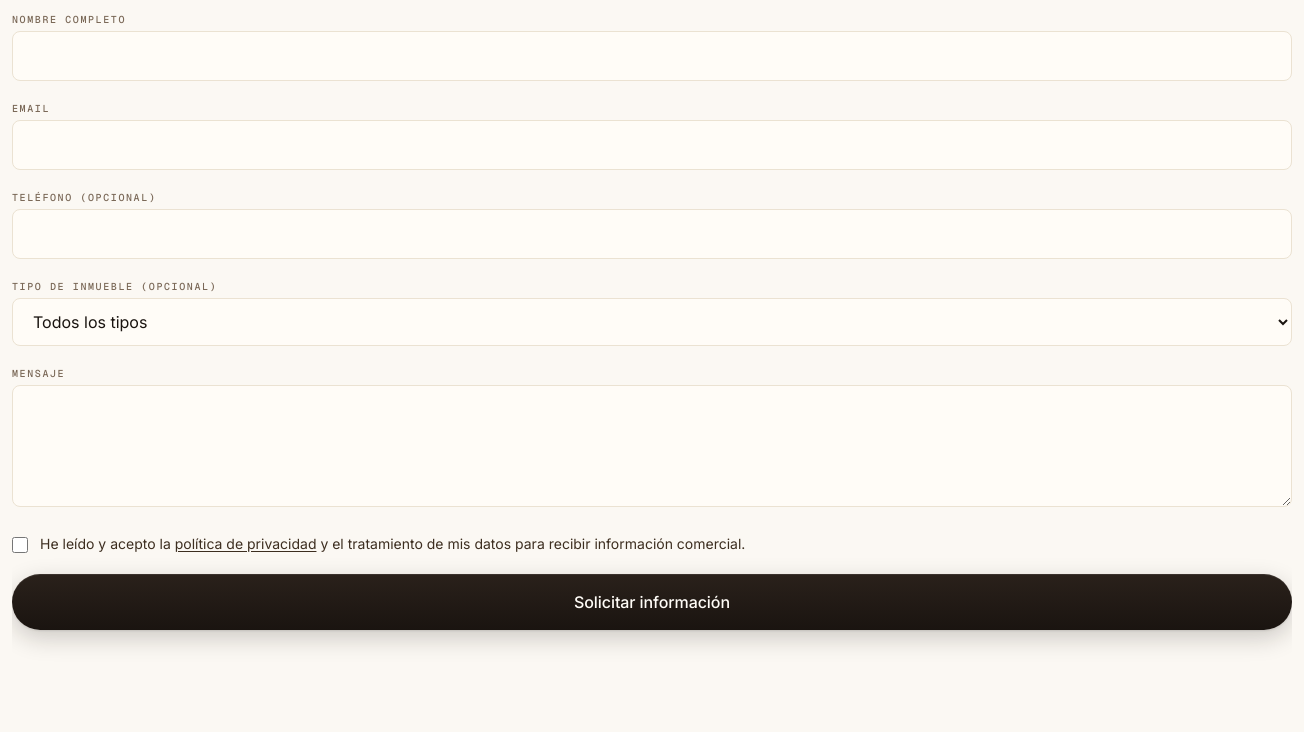
Test case: ContactForm › shows error when consent is not checked
Type "Juan Pérez" into the field labelled "Nombre completo" at (652, 56), box [12,31,1292,81]
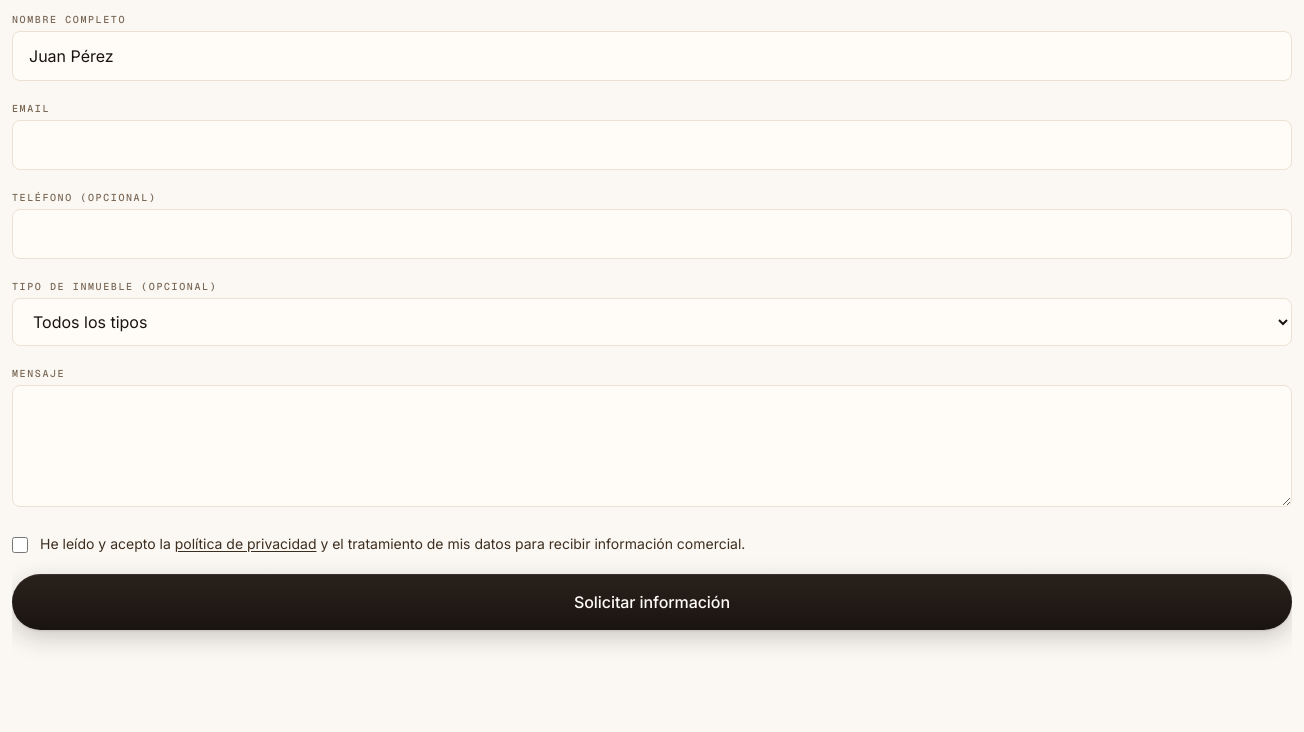
Type "juan@example.com" into the field labelled "Email" at (652, 145), box [12,120,1292,170]
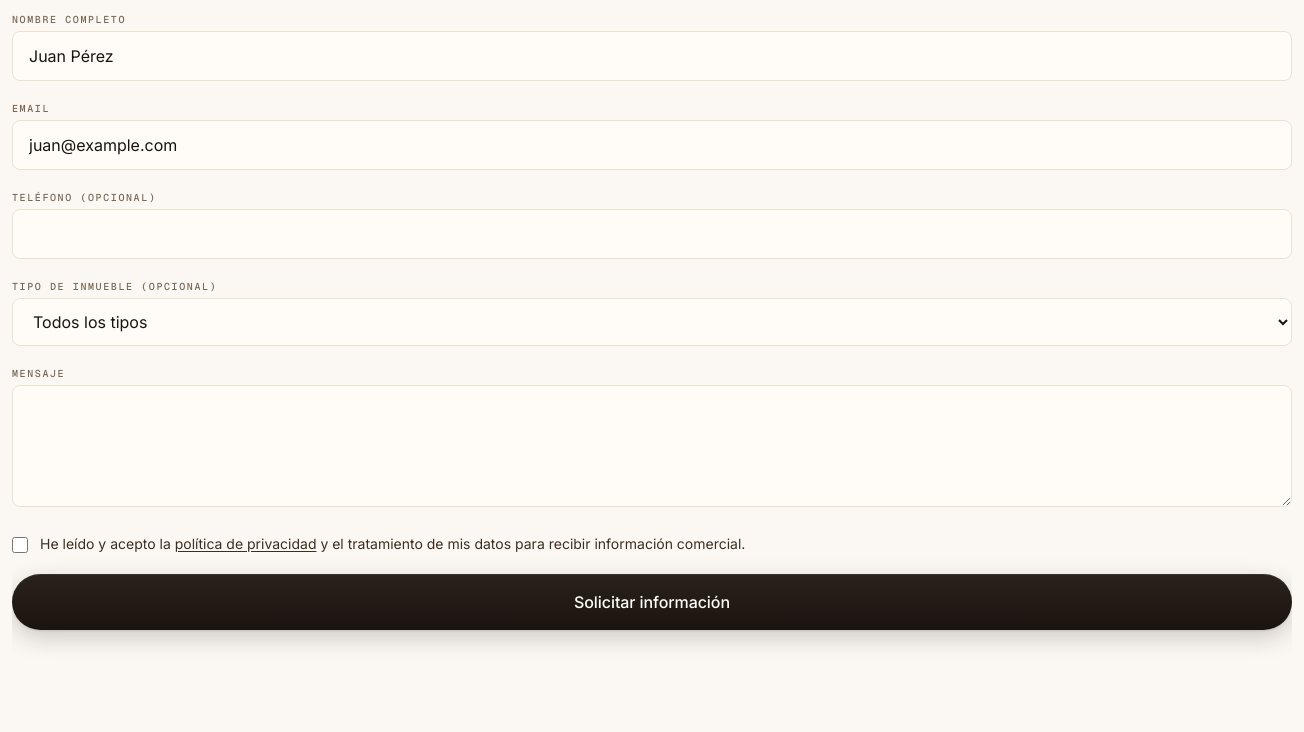
Type "Me interesa esta propiedad para mudarme" into the text box labelled "Mensaje" at (652, 446), box [12,385,1292,507]
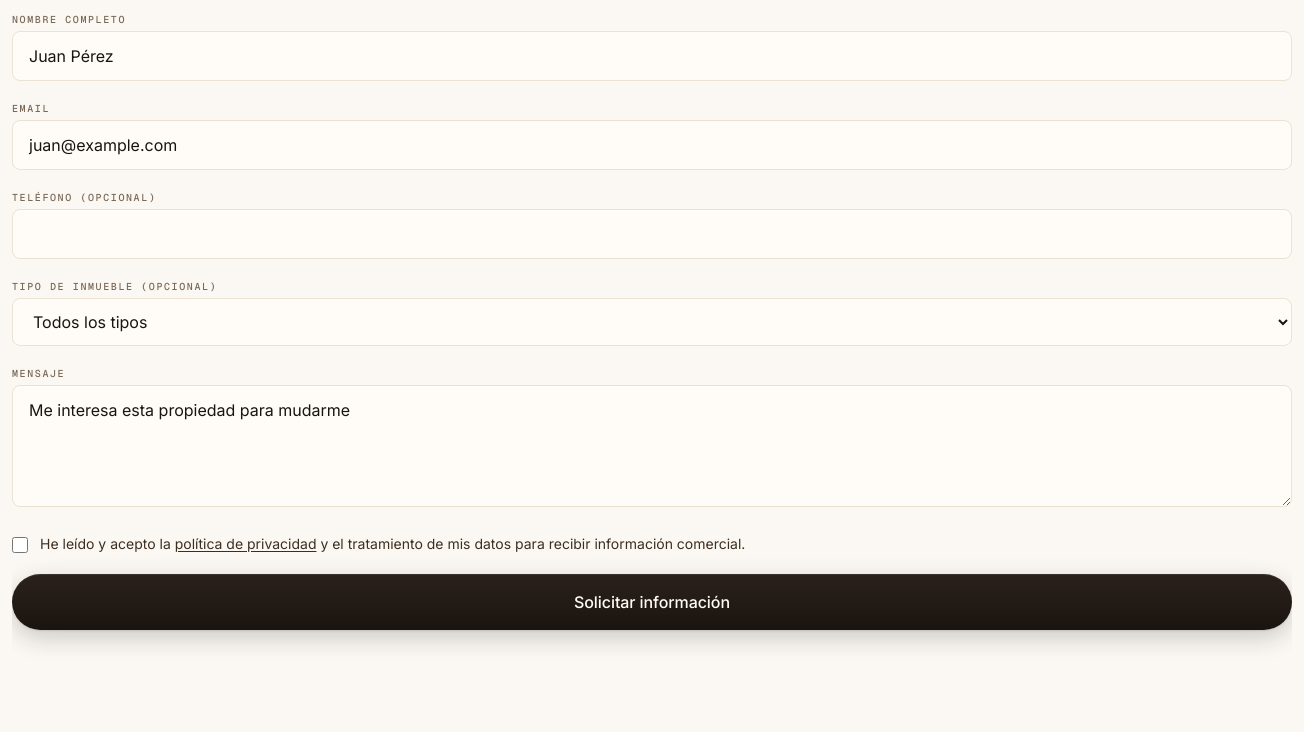
Submit the form
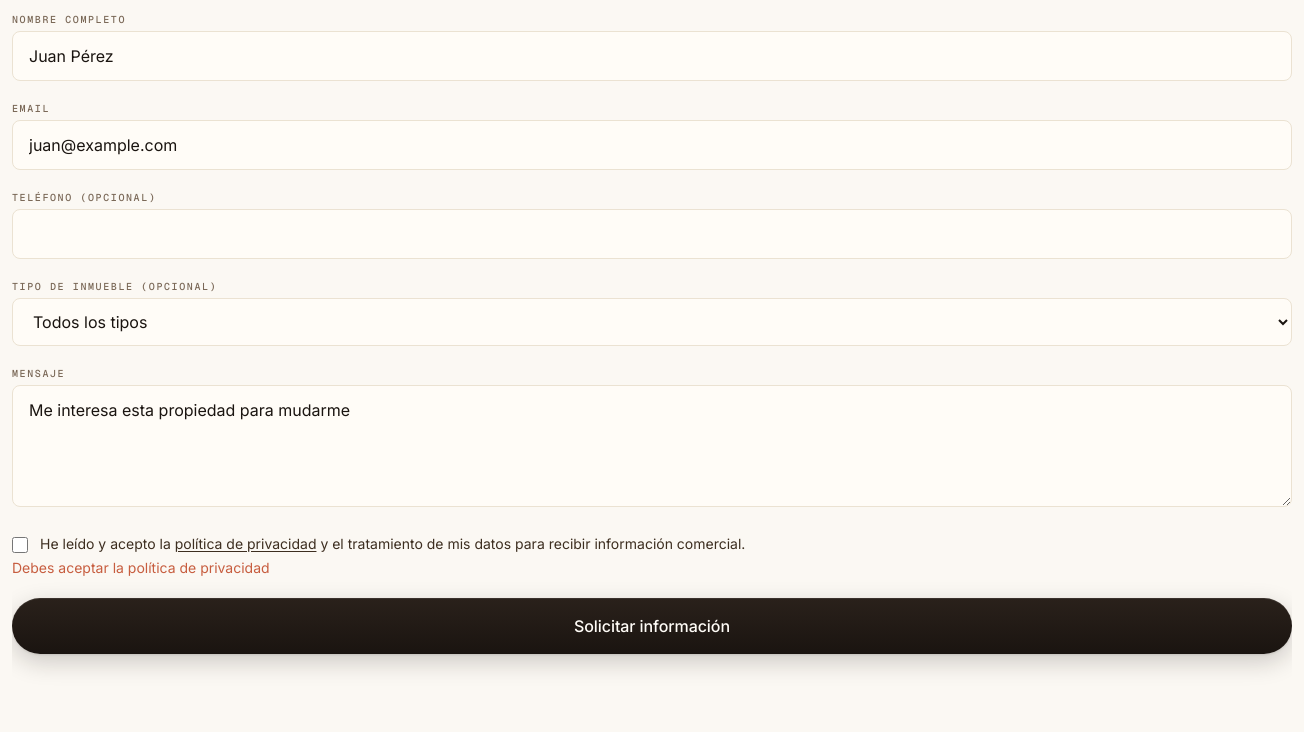
Check: the text "Debes aceptar la política de privacidad" is shown, box [12,559,270,576]
